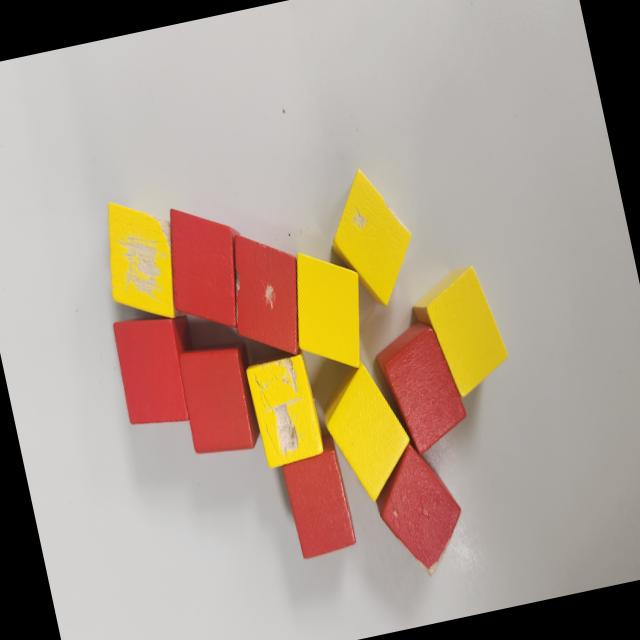broken: (317, 158, 424, 314), (365, 434, 474, 582), (216, 222, 315, 368), (93, 188, 192, 332), (243, 351, 327, 472)
red: (368, 314, 473, 462), (153, 196, 256, 344), (108, 306, 204, 435), (172, 334, 268, 462), (278, 436, 360, 560)
yellow: (312, 354, 420, 509), (408, 260, 516, 406), (282, 243, 376, 379)
